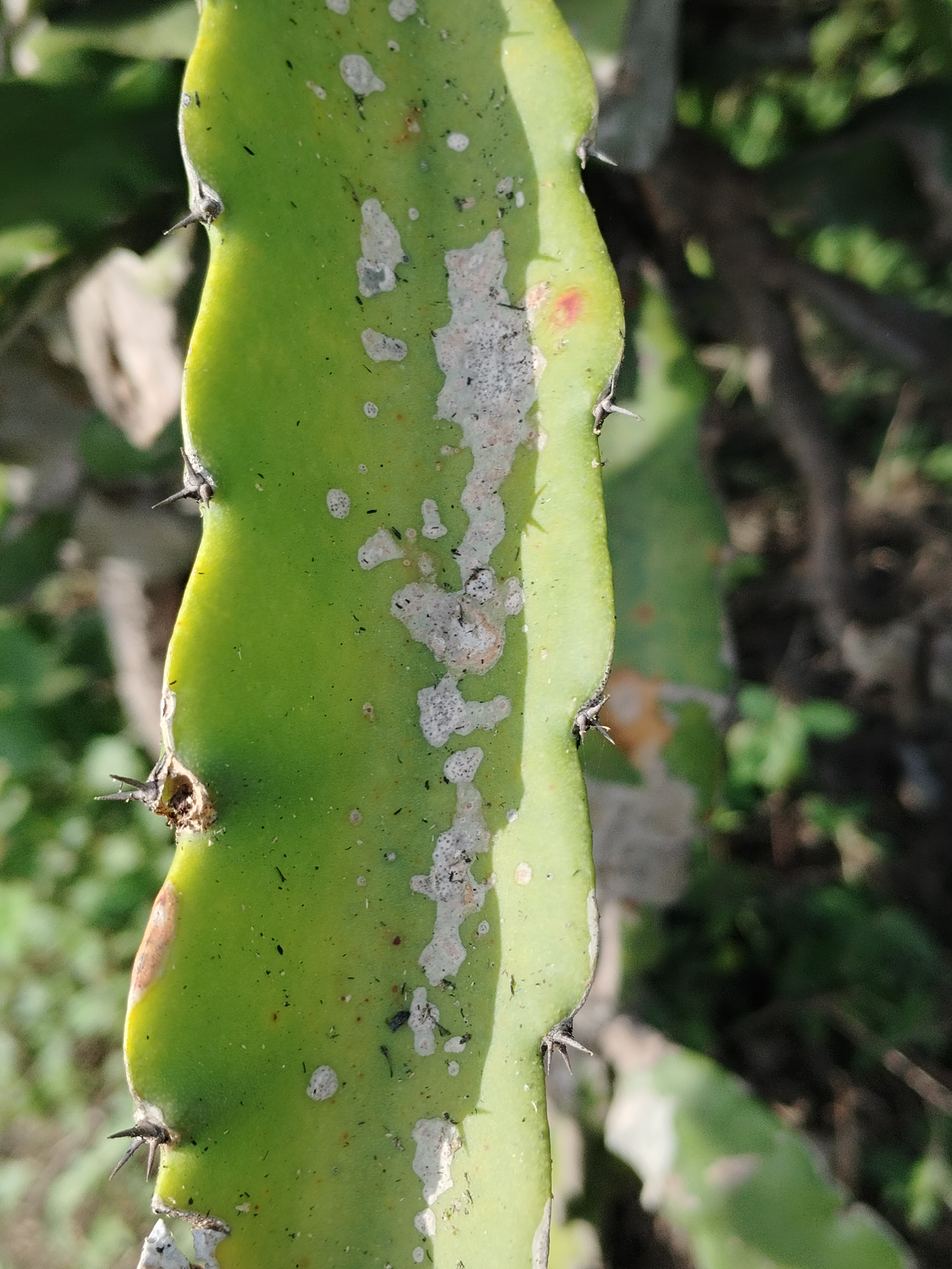stemcanker: (89, 4, 626, 1269)
